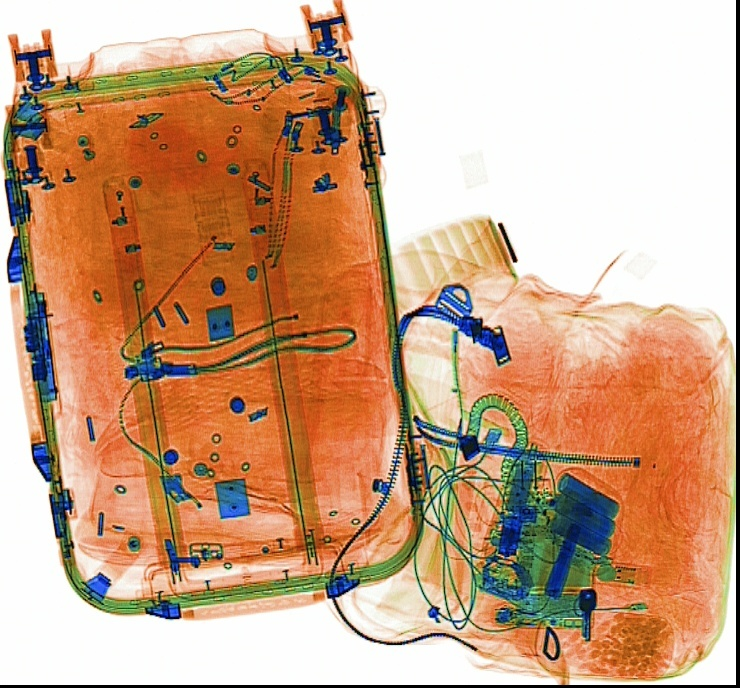powerbank: (537, 462, 624, 566)
